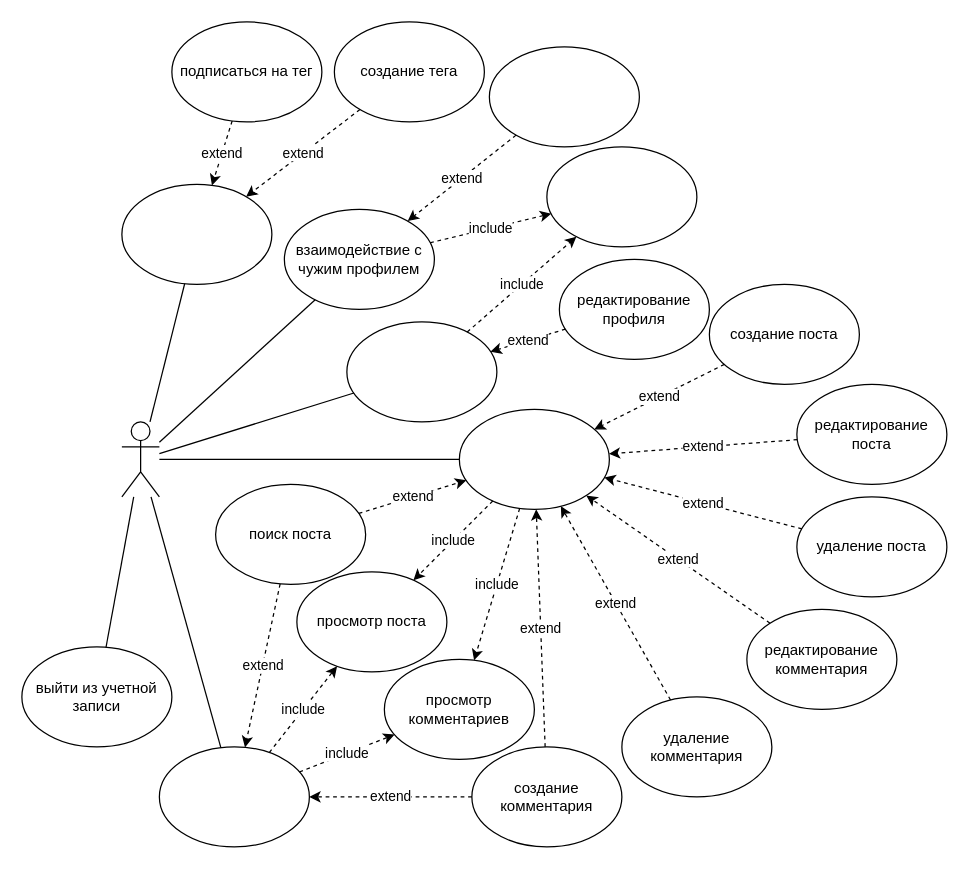
Image size: 969x869. Some labels were removed from this diagram. The centre of each missing label's shape, as x and y in pixels:
"Авторизированный пользователь" belongs at [140,459].
"взаимодействие с тегами" belongs at [196,233].
"взаимодействие с чужими постами" belongs at [233,796].
"взаимодействие со своим профилем" belongs at [421,371].
"взаимодействие со своими постами" belongs at [533,458].
"подписаться на пользователя" belongs at [563,96].
"просмотр профиля" belongs at [621,196].
